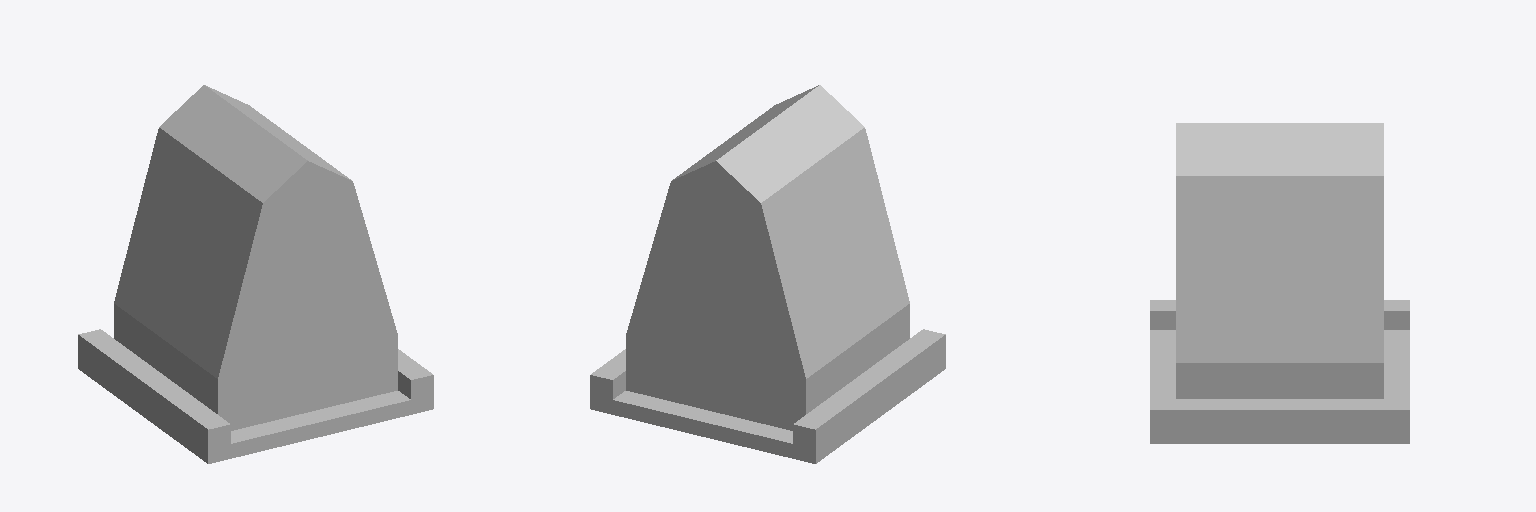
Rendered from Windmill_01.obj.
3 renders of one model, left to right at view 1: azimuth 30°, elevation 25°; view 2: azimuth 150°, elevation 25°; view 3: azimuth 270°, elevation 25°, orthographic.
Parts seen in each view (by area): view 1: Mesh1 Windmill Model; view 2: Mesh1 Windmill Model; view 3: Mesh1 Windmill Model.
Boxes of the visible parts, x1=… form: Mesh1 Windmill Model: x1=78, y1=85, x2=433, y2=463; Mesh1 Windmill Model: x1=590, y1=85, x2=945, y2=463; Mesh1 Windmill Model: x1=1150, y1=123, x2=1409, y2=443.
Size of the model in its own units: 3 by 3.39 by 3.